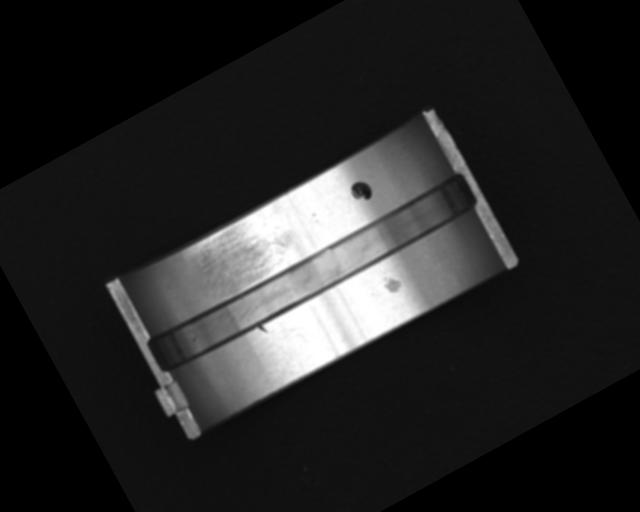blot: (347, 175, 376, 206)
bruise: (379, 268, 406, 297), (257, 322, 269, 337)
gap: (142, 168, 481, 379)
scratch: (183, 201, 304, 305)
